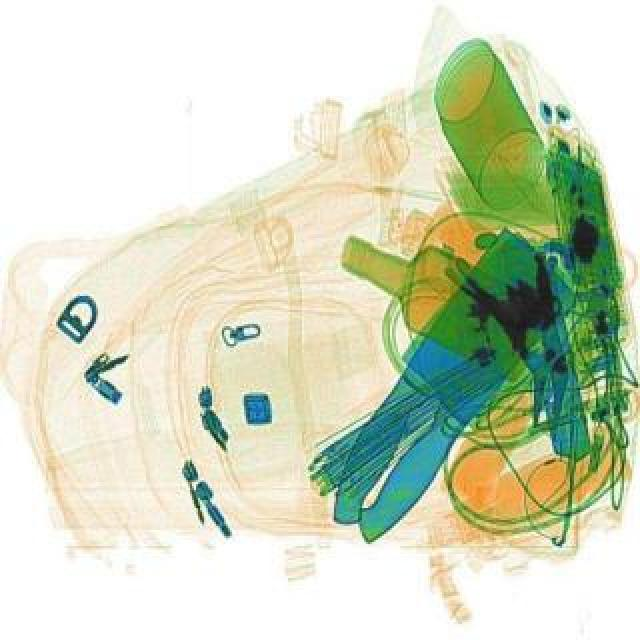knife: (288, 220, 592, 548), (298, 222, 590, 554)
